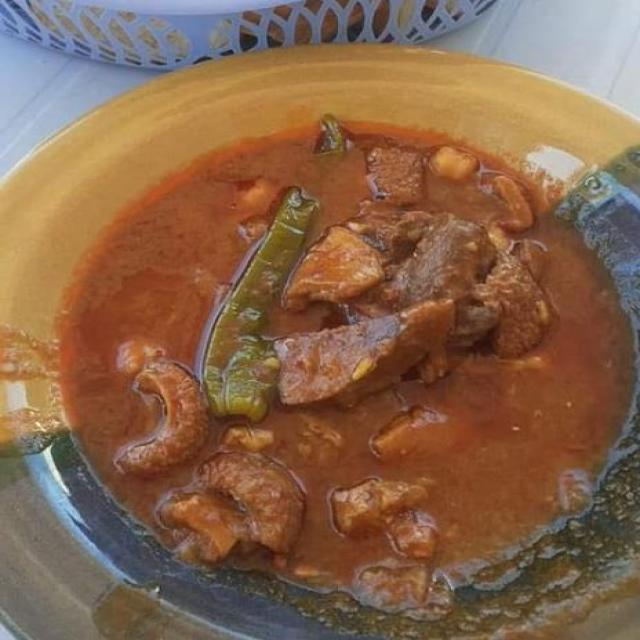kamouniya: (53, 58, 622, 586)
